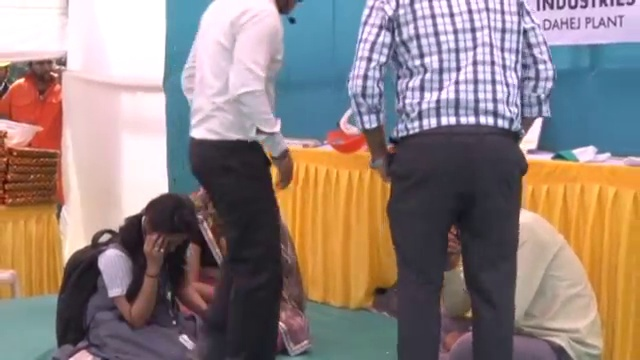helmet: (0, 119, 45, 151)
helmet_off: (134, 195, 204, 264), (28, 55, 56, 86)
person: (353, 0, 555, 360), (184, 1, 305, 356), (55, 194, 218, 355), (446, 212, 605, 360), (185, 190, 306, 360), (5, 52, 64, 148)
